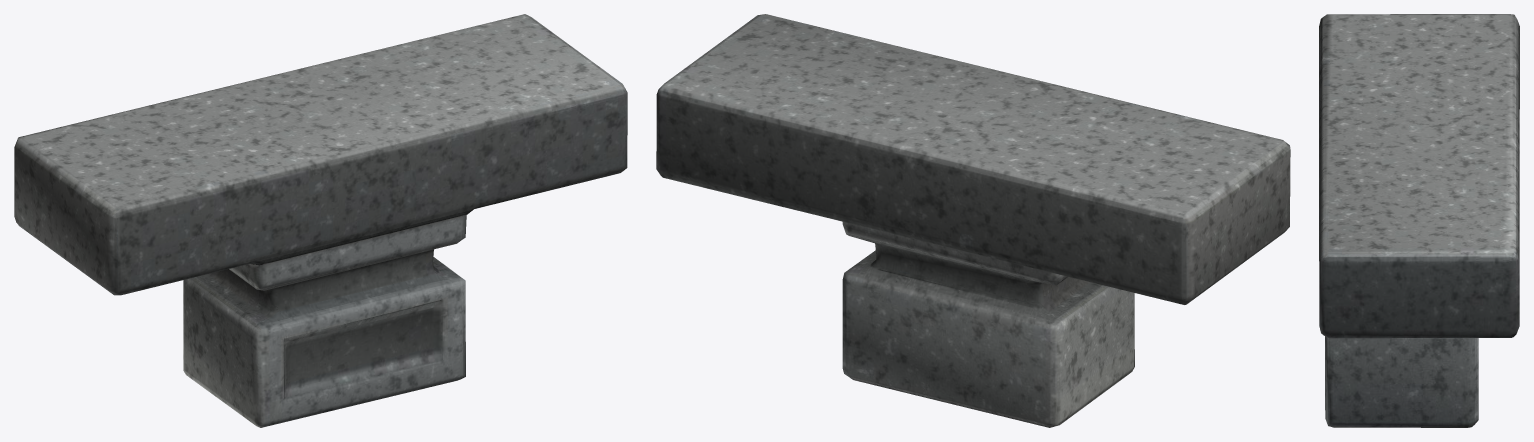
The model's file is bench_grey.glb.
3 renders of one model, left to right at view 1: azimuth 30°, elevation 25°; view 2: azimuth 150°, elevation 25°; view 3: azimuth 270°, elevation 25°, orthographic. The views are drawn at different scales.
Visible parts, largest first — view 1: bench_grey_lod0; view 2: bench_grey_lod0; view 3: bench_grey_lod0.
Boxes of the visible parts, x1,y1,x2,y2 form: bench_grey_lod0: [14, 14, 627, 427]; bench_grey_lod0: [656, 14, 1290, 427]; bench_grey_lod0: [1319, 14, 1519, 427].
Bounding box in the file's own units: 0.98 × 0.47 × 0.34.
1 material, 1 textured.
